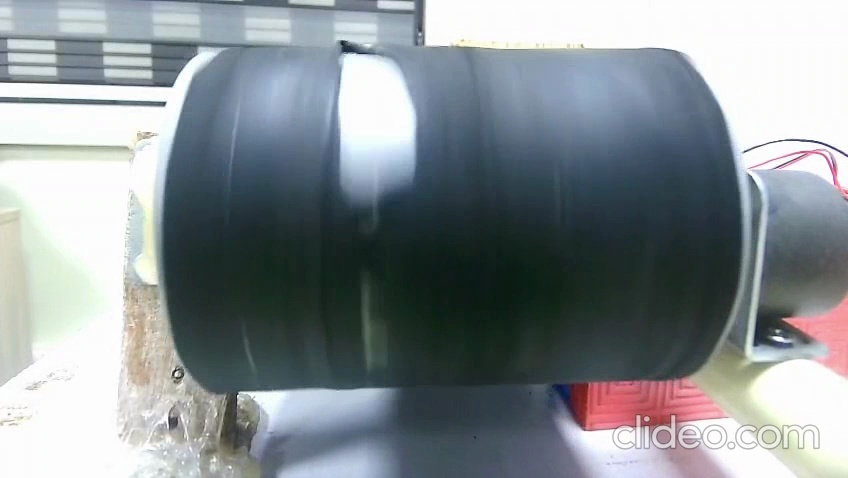hole: (321, 37, 438, 201)
tear: (356, 259, 395, 376)
